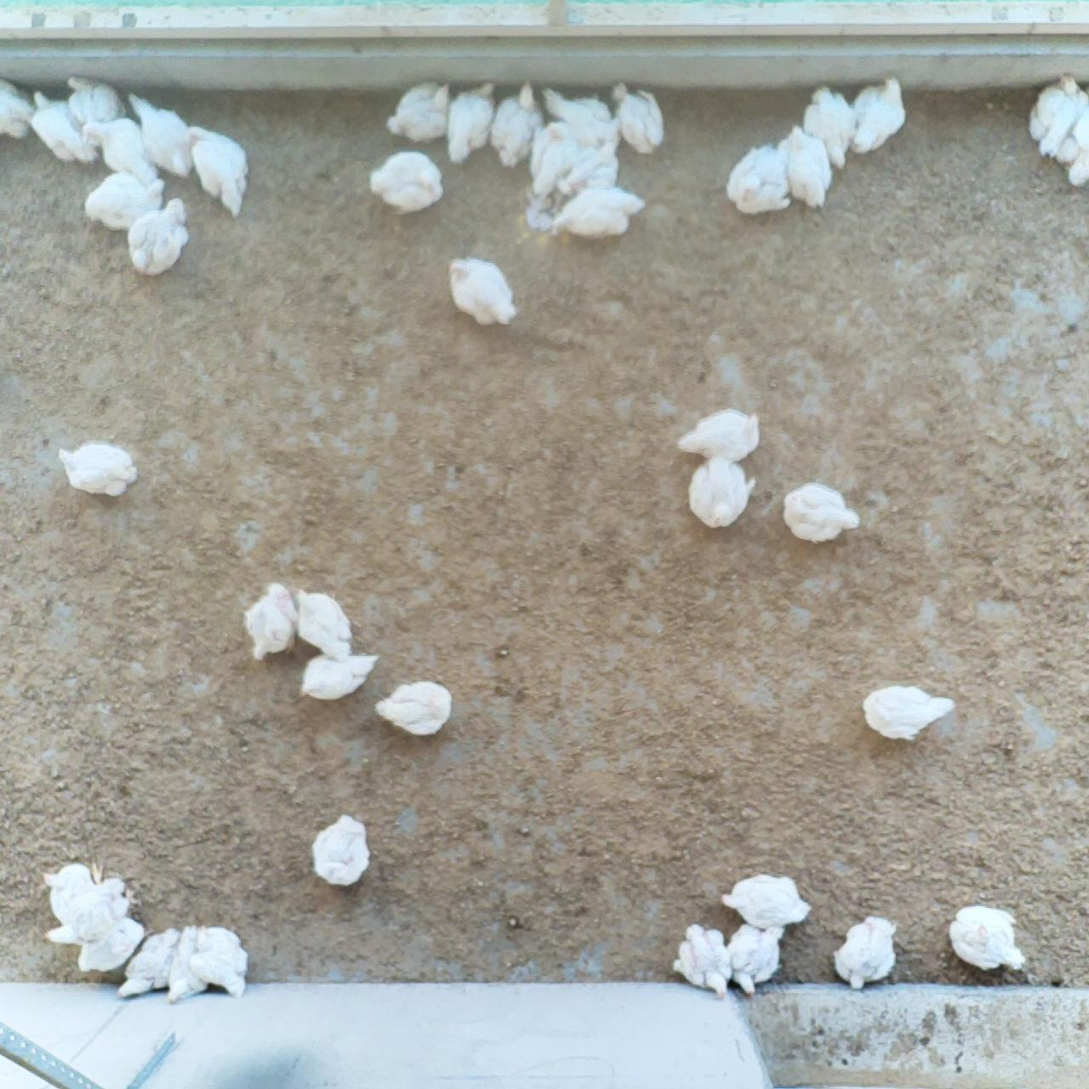chicken: (180, 110, 254, 219), (780, 470, 866, 556), (442, 248, 526, 332), (123, 91, 197, 186), (680, 451, 758, 540), (860, 679, 959, 748), (50, 442, 151, 507), (43, 915, 151, 975), (305, 807, 380, 893), (945, 901, 1027, 978), (40, 857, 140, 920), (359, 148, 444, 220), (70, 169, 168, 231), (540, 83, 622, 155), (83, 117, 163, 190), (289, 572, 351, 664), (667, 921, 736, 1003), (829, 914, 905, 988), (296, 640, 374, 712), (670, 405, 767, 461), (850, 76, 912, 163), (549, 187, 652, 239), (727, 145, 795, 221), (717, 868, 808, 923), (613, 76, 670, 163), (190, 925, 257, 999), (1027, 71, 1089, 150), (488, 93, 544, 180), (802, 88, 858, 174), (367, 684, 455, 738), (242, 584, 305, 659), (724, 917, 783, 997), (18, 96, 97, 154), (440, 83, 498, 162), (781, 123, 833, 211), (131, 197, 187, 278), (539, 111, 592, 191), (67, 72, 126, 143), (121, 929, 182, 997), (160, 933, 216, 1006), (390, 82, 452, 142), (561, 145, 620, 198), (1049, 118, 1089, 180), (1, 76, 33, 139)
